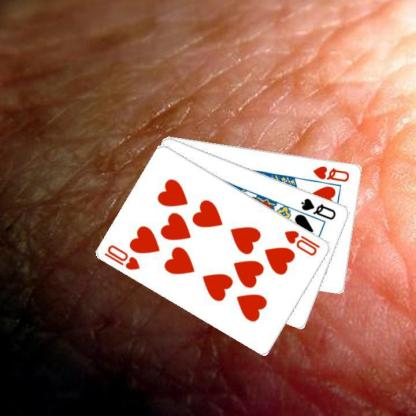10H: (102, 242, 142, 272), (282, 228, 321, 257)
QH: (311, 163, 351, 183)
QS: (299, 196, 337, 222)
